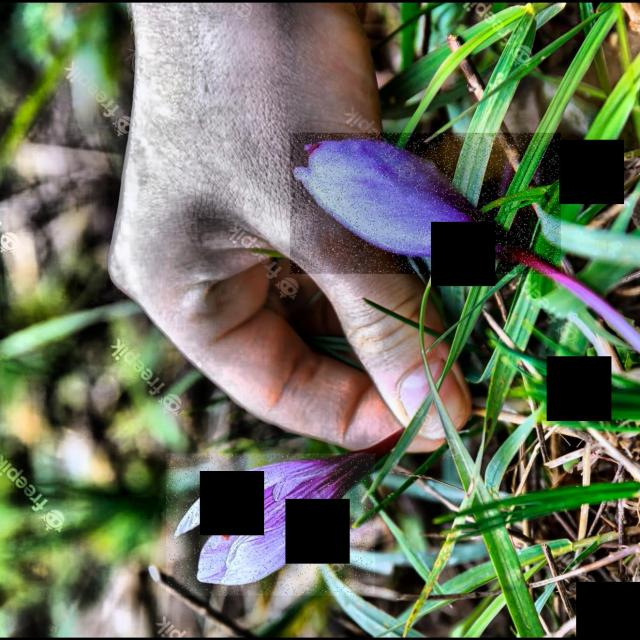Flower: (290, 132, 560, 274), (166, 454, 375, 596)
